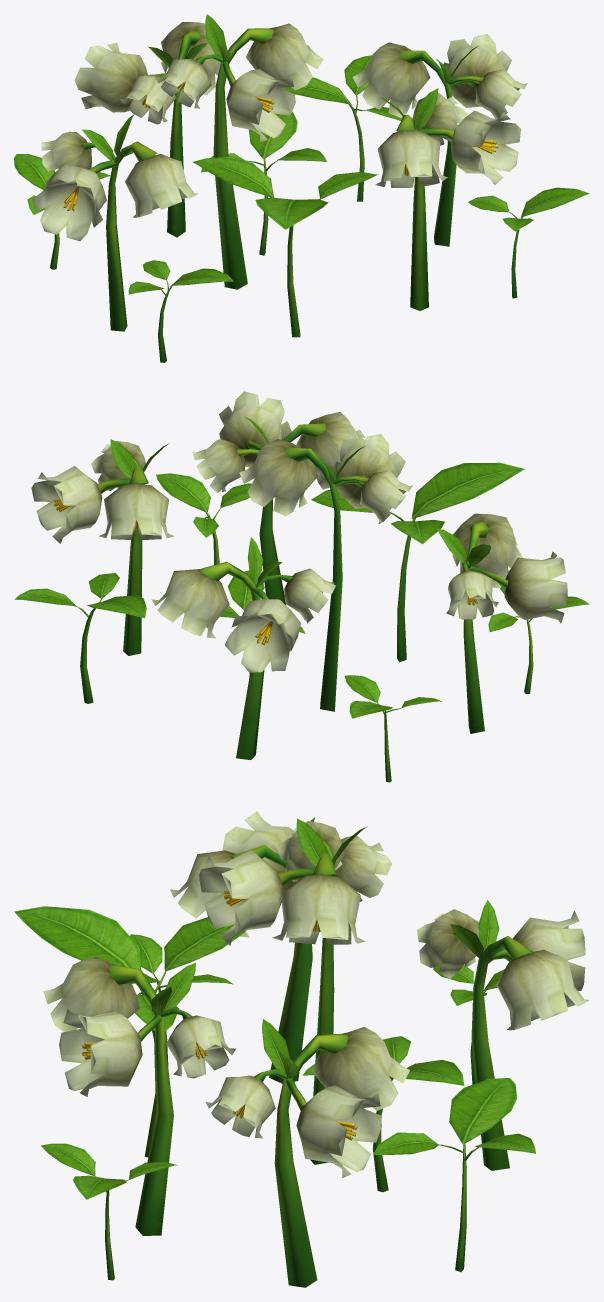
Rendered from flower_10.fbx.
3 renders of one model, top to bottom at view 1: azimuth 30°, elevation 25°; view 2: azimuth 150°, elevation 25°; view 3: azimuth 270°, elevation 25°, orthographic. The views are drawn at different scales.
Parts seen in each view (by area): view 1: flower_10; view 2: flower_10; view 3: flower_10.
Boxes of the visible parts, bbox=[...] form: flower_10: bbox=[14, 14, 589, 362]; flower_10: bbox=[14, 391, 589, 782]; flower_10: bbox=[14, 811, 589, 1287].
Size of the model in its own units: 4.47 by 2.22 by 3.51.
